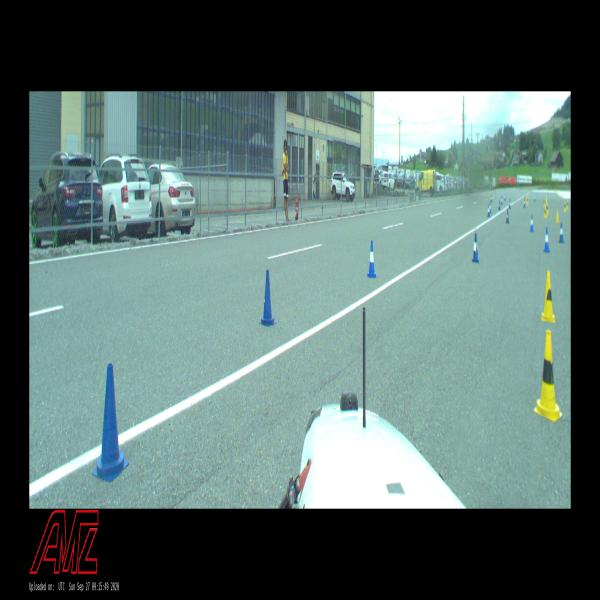blue_cone: (92, 363, 129, 482), (259, 269, 276, 328), (368, 241, 376, 278), (472, 232, 480, 263), (543, 227, 550, 253), (558, 223, 564, 243), (529, 214, 534, 232), (505, 209, 509, 222), (523, 197, 526, 209), (508, 198, 511, 209), (487, 206, 490, 216), (498, 200, 501, 210), (489, 202, 491, 214), (500, 197, 502, 205), (504, 194, 506, 201), (491, 193, 492, 202), (534, 194, 535, 202)
yellow_cone: (534, 329, 562, 420), (540, 271, 556, 323), (555, 210, 559, 222), (544, 206, 547, 218), (566, 199, 569, 210), (563, 201, 566, 211), (546, 203, 548, 214), (546, 195, 548, 206), (526, 195, 528, 204), (543, 197, 545, 205)
